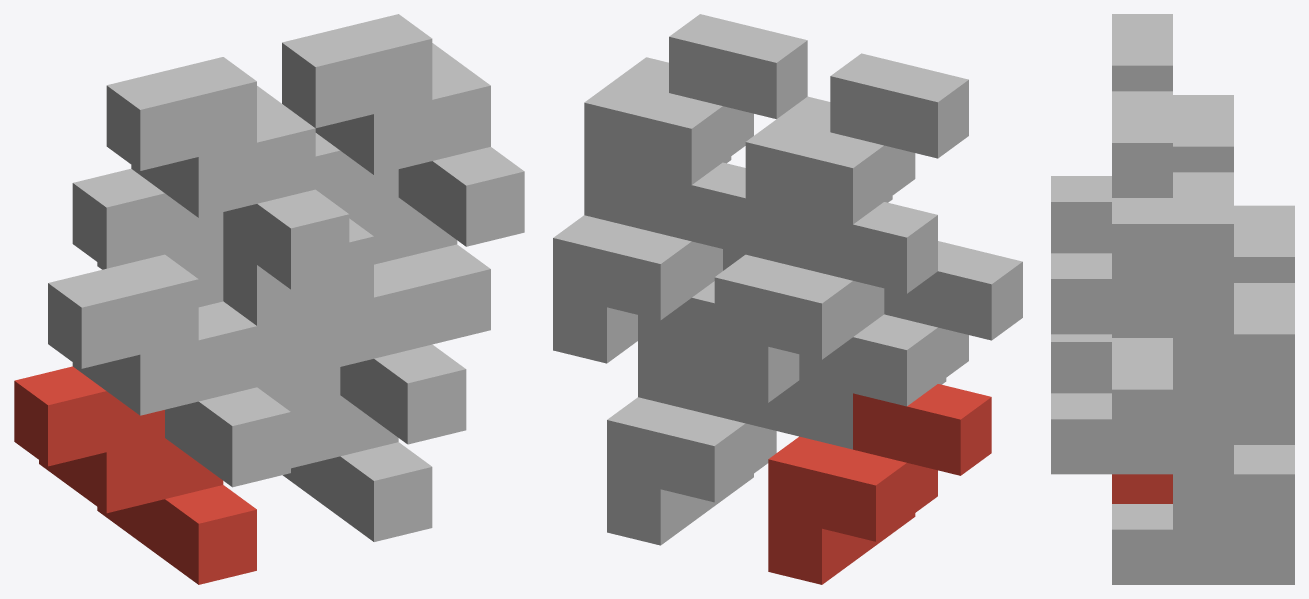
Rendered from tiling.obj.
3 renders of one model, left to right at view 1: azimuth 30°, elevation 25°; view 2: azimuth 150°, elevation 25°; view 3: azimuth 270°, elevation 25°, orthographic. The views are drawn at different scales.
Parts seen in each view (by area): view 1: copy_1_domain_4, copy_1_domain_8, copy_1_domain_2, copy_1_domain_1, copy_1_domain_6, copy_1_domain_5, copy_1_domain_3, copy_1_domain_7; view 2: copy_1_domain_4, copy_1_domain_8, copy_1_domain_1, copy_1_domain_3, copy_1_domain_7, copy_1_domain_2, copy_1_domain_5, copy_1_domain_6; view 3: copy_1_domain_8, copy_1_domain_7, copy_1_domain_5, copy_1_domain_4, copy_1_domain_6, copy_1_domain_3, copy_1_domain_2, copy_1_domain_1.
Part boxes in pixels (x1=…): copy_1_domain_4: x1=106, y1=57, x2=349, y2=289; copy_1_domain_8: x1=282, y1=14, x2=524, y2=246; copy_1_domain_2: x1=48, y1=254, x2=290, y2=487; copy_1_domain_1: x1=14, y1=366, x2=256, y2=584; copy_1_domain_6: x1=223, y1=218, x2=466, y2=444; copy_1_domain_5: x1=257, y1=367, x2=432, y2=541; copy_1_domain_3: x1=72, y1=169, x2=315, y2=387; copy_1_domain_7: x1=315, y1=133, x2=490, y2=344; copy_1_domain_4: x1=745, y1=53, x2=968, y2=267; copy_1_domain_8: x1=584, y1=14, x2=807, y2=228; copy_1_domain_1: x1=768, y1=384, x2=991, y2=584; copy_1_domain_3: x1=714, y1=202, x2=937, y2=402; copy_1_domain_7: x1=553, y1=162, x2=745, y2=363; copy_1_domain_2: x1=799, y1=241, x2=1022, y2=449; copy_1_domain_5: x1=607, y1=354, x2=799, y2=545; copy_1_domain_6: x1=638, y1=249, x2=745, y2=409; copy_1_domain_8: x1=1051, y1=91, x2=1233, y2=334; copy_1_domain_7: x1=1112, y1=283, x2=1294, y2=444; copy_1_domain_5: x1=1112, y1=445, x2=1294, y2=584; copy_1_domain_4: x1=1051, y1=14, x2=1233, y2=253; copy_1_domain_6: x1=1051, y1=334, x2=1233, y2=474; copy_1_domain_3: x1=1234, y1=205, x2=1294, y2=282; copy_1_domain_2: x1=1051, y1=334, x2=1111, y2=393; copy_1_domain_1: x1=1112, y1=474, x2=1172, y2=503.
Bounding box in the file's own units: 7 × 8 × 4.
